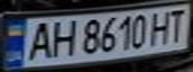0: (130, 11, 151, 48)
1: (115, 13, 136, 51)
6: (100, 15, 118, 53)
8: (78, 16, 103, 55)
A: (21, 19, 57, 61)
H: (48, 18, 78, 58), (148, 8, 175, 46)
T: (163, 7, 190, 44)
